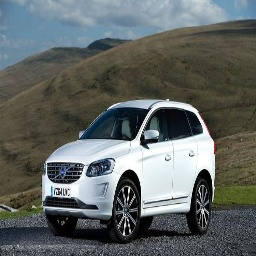sv_licence_plate: (50, 184, 73, 196)
